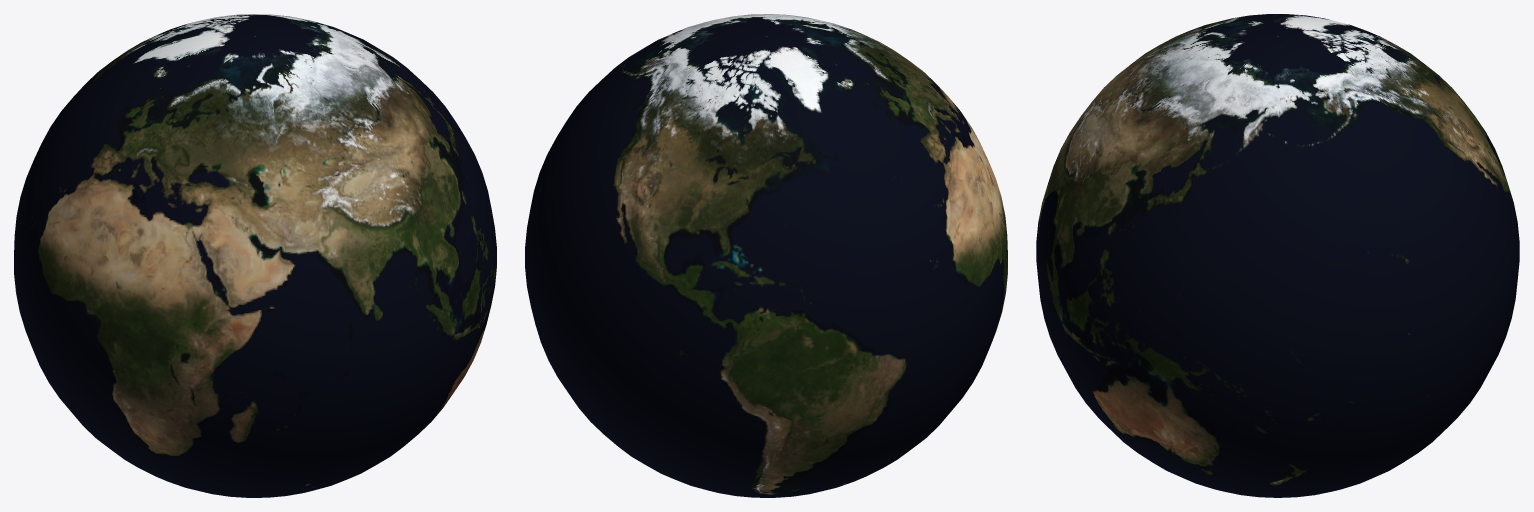
Rendered from body.obj.
The picture shows the model from 3 angles, left to right: view 1: azimuth 30°, elevation 25°; view 2: azimuth 150°, elevation 25°; view 3: azimuth 270°, elevation 25°; orthographic projection.
Visible parts, largest first — view 1: pSphere1; view 2: pSphere1; view 3: pSphere1.
Boxes of the visible parts, x1,y1,x2,y2 form: pSphere1: (14,14,496,497); pSphere1: (525,14,1007,497); pSphere1: (1036,14,1519,497).
Bounding box in the file's own units: 1.99 × 2 × 2.
